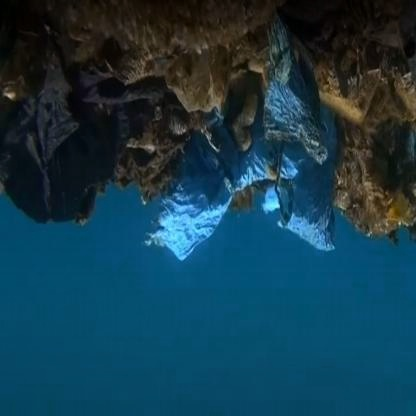plastic: (180, 71, 340, 274), (22, 74, 141, 244)
